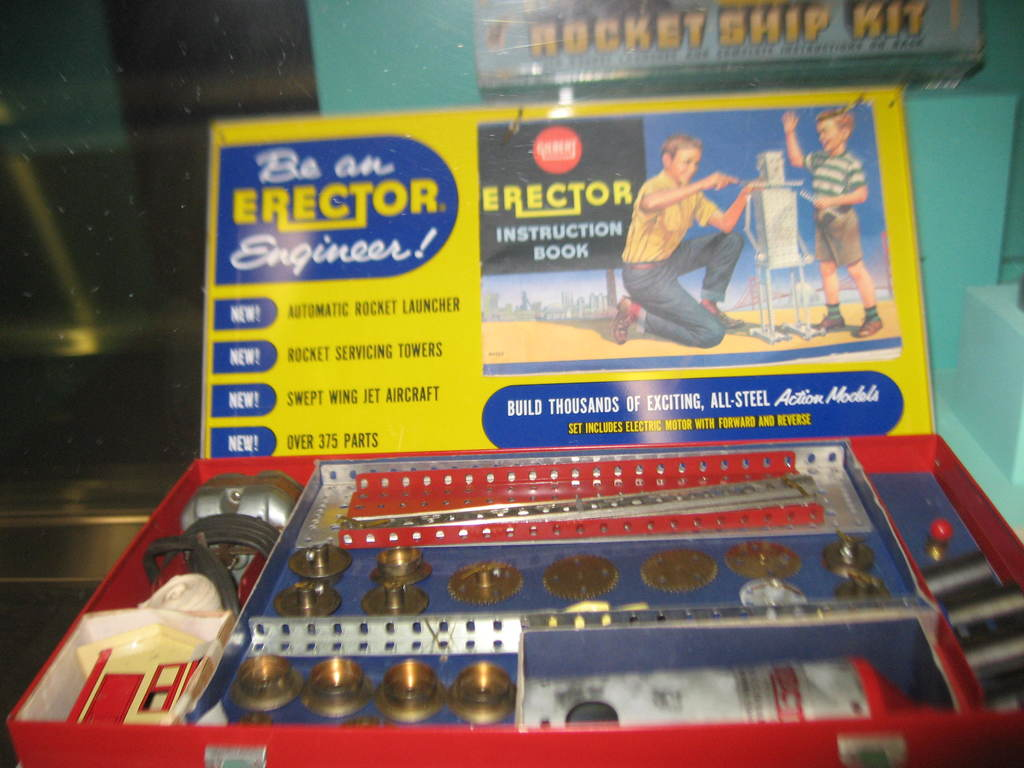Person: (611, 134, 767, 348), (781, 108, 884, 337)
